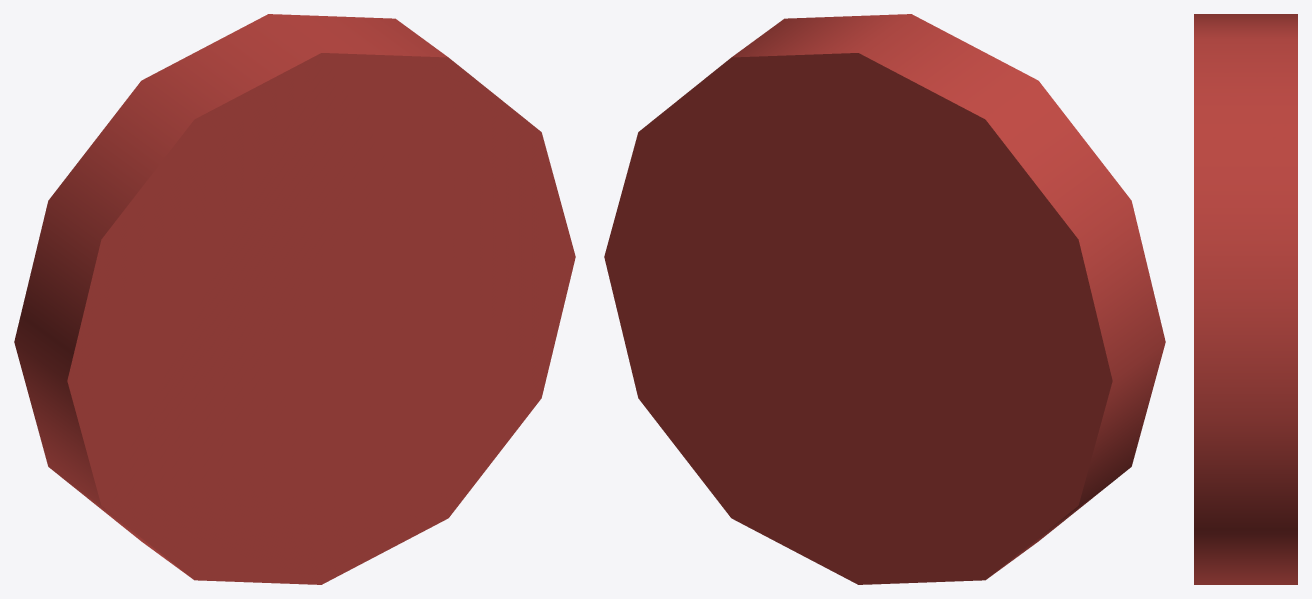
The model's file is front_13_lod2.glb.
3 renders of one model, left to right at view 1: azimuth 30°, elevation 25°; view 2: azimuth 150°, elevation 25°; view 3: azimuth 270°, elevation 25°, orthographic. The views are drawn at different scales.
Visible parts, largest first — view 1: front_13_lod2; view 2: front_13_lod2; view 3: front_13_lod2.
Part boxes in pixels (<box>): front_13_lod2: <box>14,14,575,584</box>; front_13_lod2: <box>604,14,1165,584</box>; front_13_lod2: <box>1194,14,1297,584</box>.
Bounding box in the file's own units: 0.0663 × 0.0663 × 0.012.
